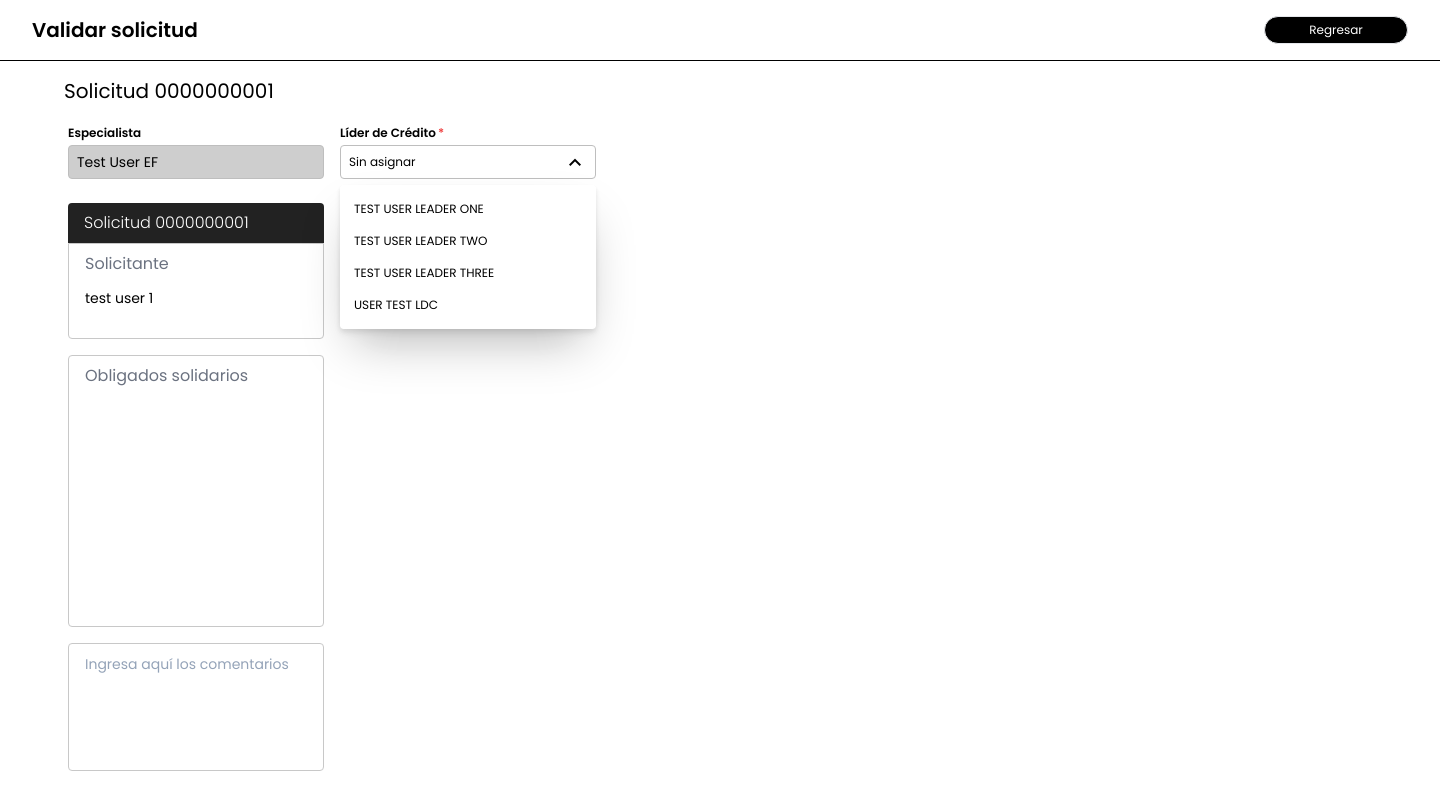
Test: ValidateRequest › it should enabled button "Asignar solicitud" is completed checklist and selected a leader
What coordinates should you click on to do the following:
click the element showing "TEST USER LEADER ONE"
I would click on:
 (419, 208)
Its box is [354,200,484,217].
(page scrolled)
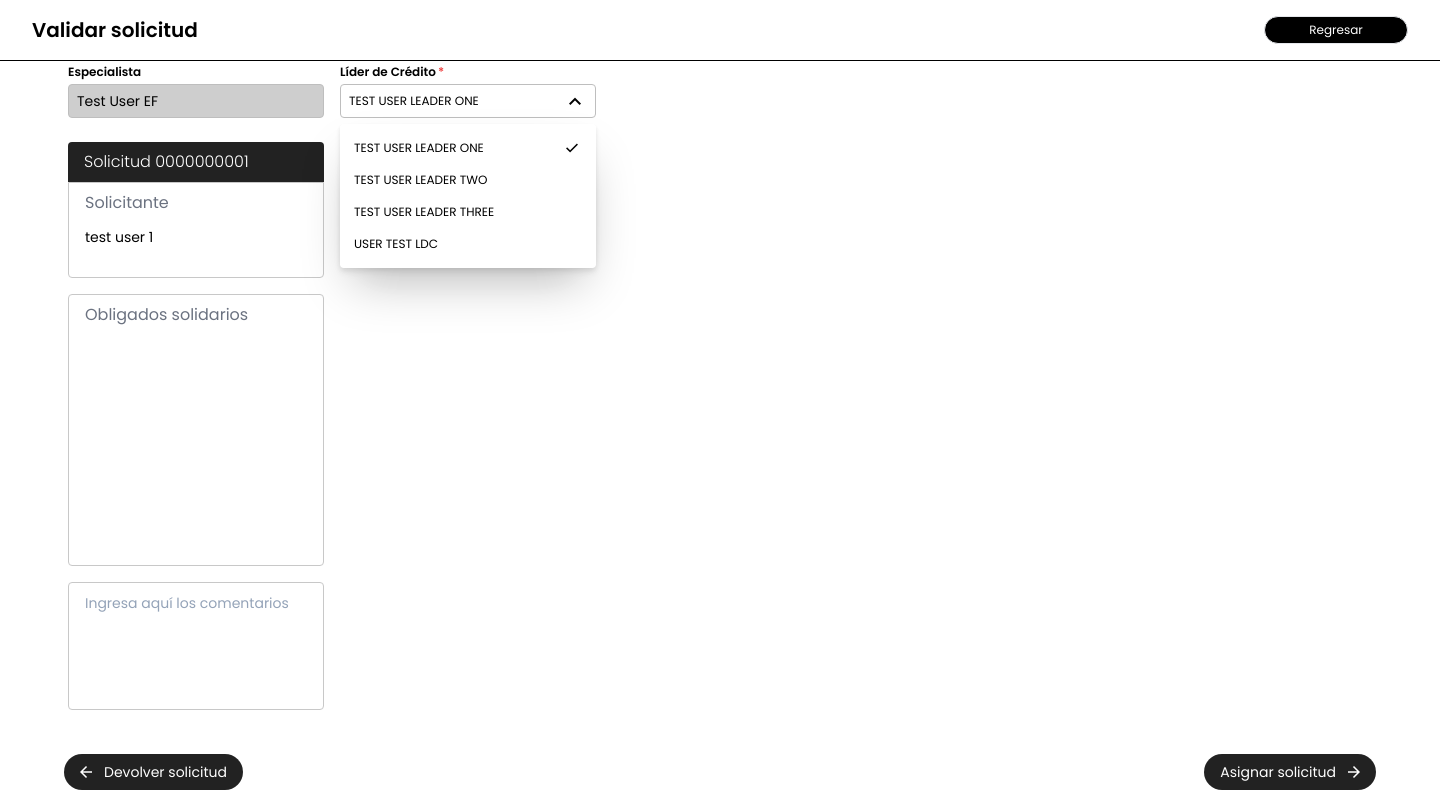
expect the button "Asignar solicitud" is enabled: met, box [1204,754,1376,790]
